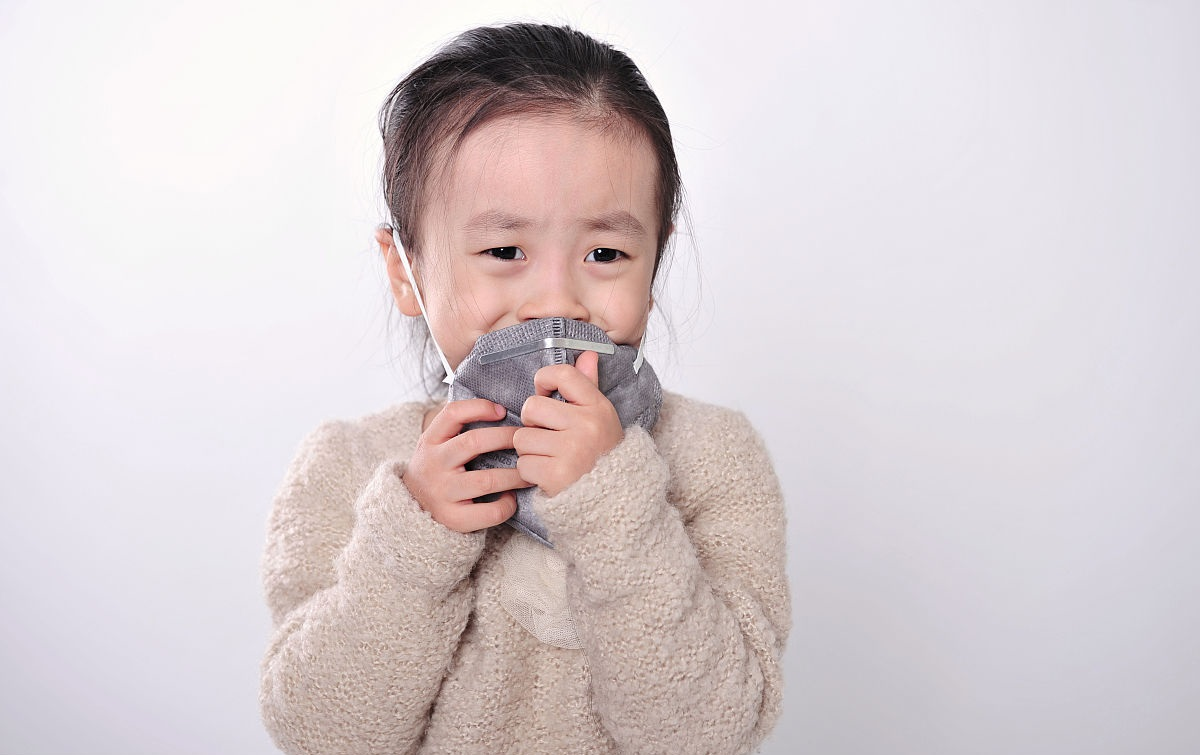face_mask: (417, 115, 664, 414)
